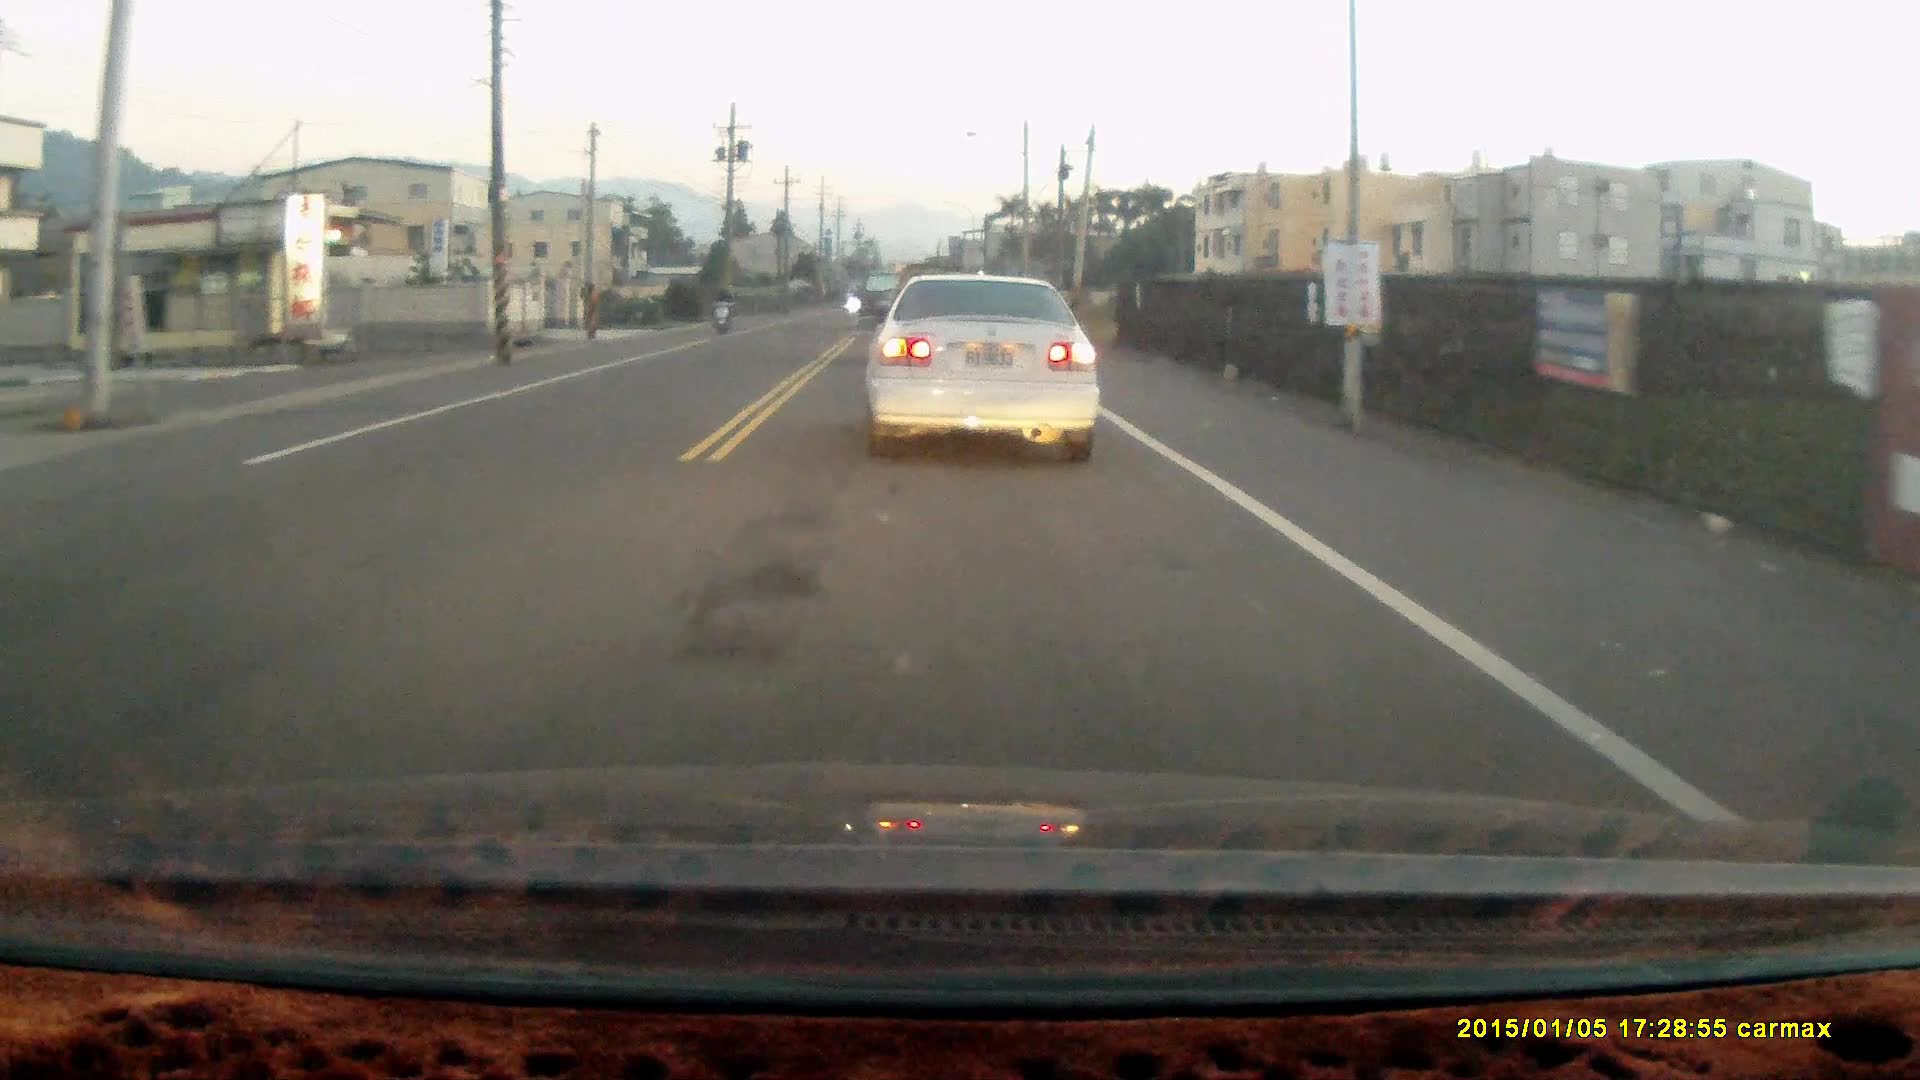rider: (708, 283, 732, 337)
vehicle: (861, 272, 1102, 466)
